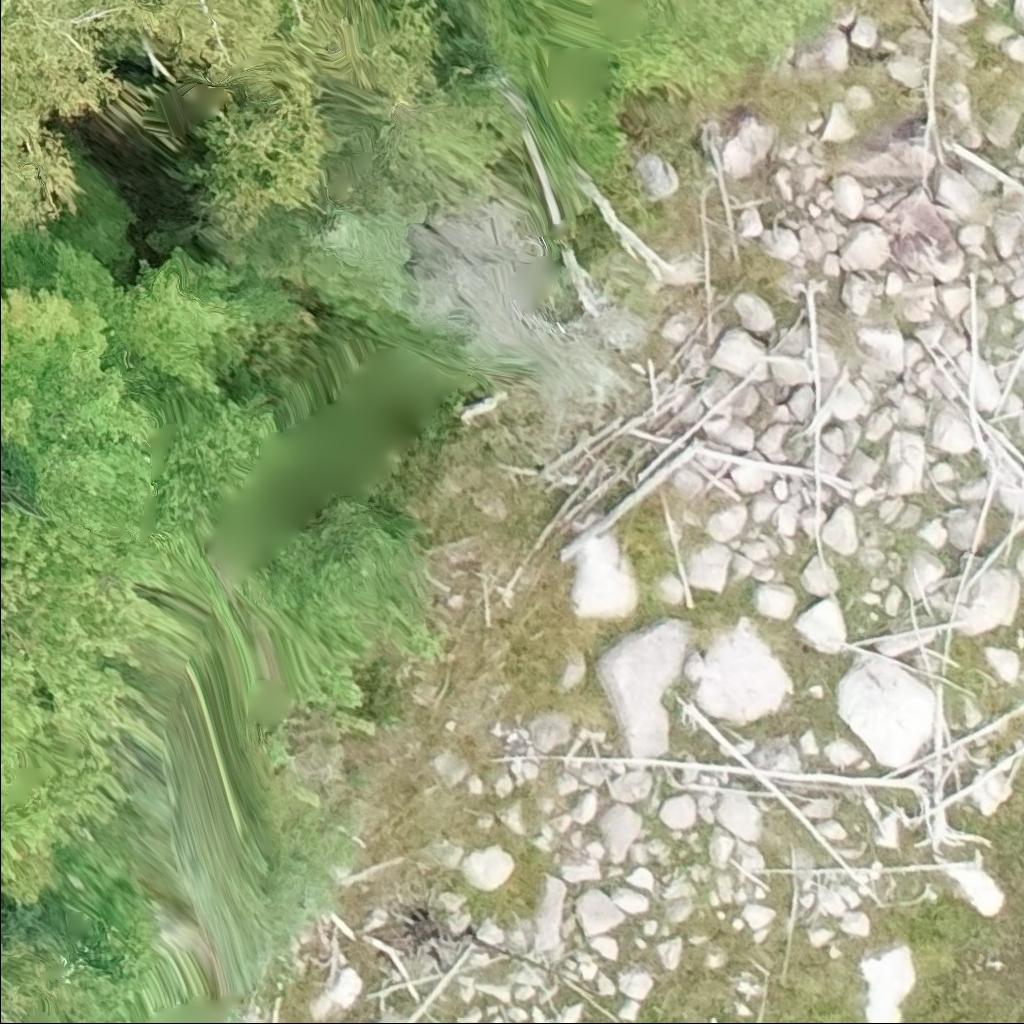crown: (0, 0, 159, 235)
